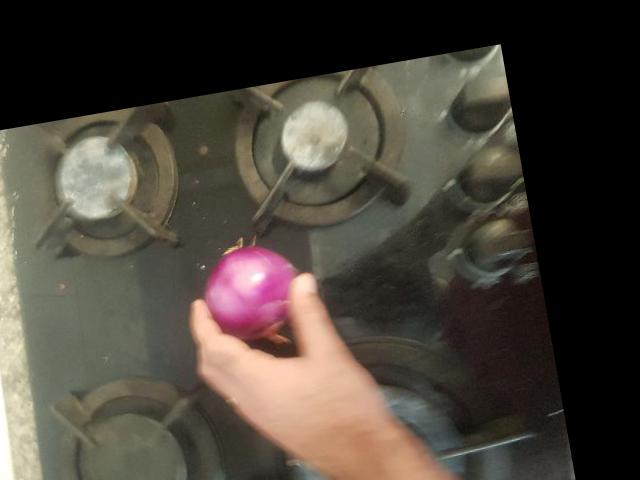onion: (43, 186, 141, 300)
